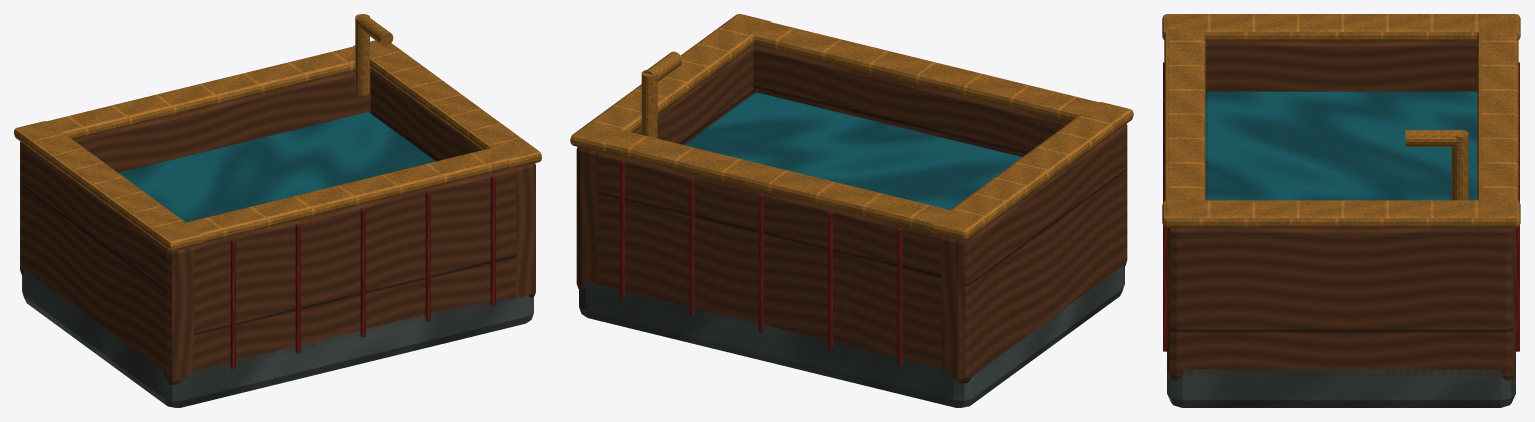
File: bath_tub.glb
3 views of the same model, side by side, from view 1: azimuth 30°, elevation 25°; view 2: azimuth 150°, elevation 25°; view 3: azimuth 270°, elevation 25° (orthographic). The views are drawn at different scales.
Parts seen in each view (by area): view 1: bath_tub_Walnut, bath_tub_Brass, bath_tub_Stone, bath_tub_Water, bath_tub_Lacquer; view 2: bath_tub_Walnut, bath_tub_Brass, bath_tub_Water, bath_tub_Stone, bath_tub_Lacquer; view 3: bath_tub_Walnut, bath_tub_Brass, bath_tub_Water, bath_tub_Stone, bath_tub_Lacquer.
Boxes of the visible parts, bbox=[...] form: bath_tub_Walnut: bbox=[20, 68, 535, 384]; bath_tub_Brass: bbox=[14, 14, 541, 251]; bath_tub_Stone: bbox=[22, 268, 533, 407]; bath_tub_Water: bbox=[118, 112, 435, 222]; bath_tub_Lacquer: bbox=[230, 176, 495, 369]; bath_tub_Walnut: bbox=[576, 45, 1127, 383]; bath_tub_Brass: bbox=[570, 14, 1133, 240]; bath_tub_Water: bbox=[684, 92, 1021, 209]; bath_tub_Stone: bbox=[579, 265, 1124, 407]; bath_tub_Lacquer: bbox=[620, 160, 902, 366]; bath_tub_Walnut: bbox=[1167, 41, 1515, 380]; bath_tub_Brass: bbox=[1162, 14, 1520, 227]; bath_tub_Water: bbox=[1205, 91, 1477, 200]; bath_tub_Stone: bbox=[1167, 369, 1515, 407]; bath_tub_Lacquer: bbox=[1163, 62, 1519, 351].
Size of the model in its own units: 2.58 by 1.51 by 1.9.
Materials: 5 (5 with a texture image).
